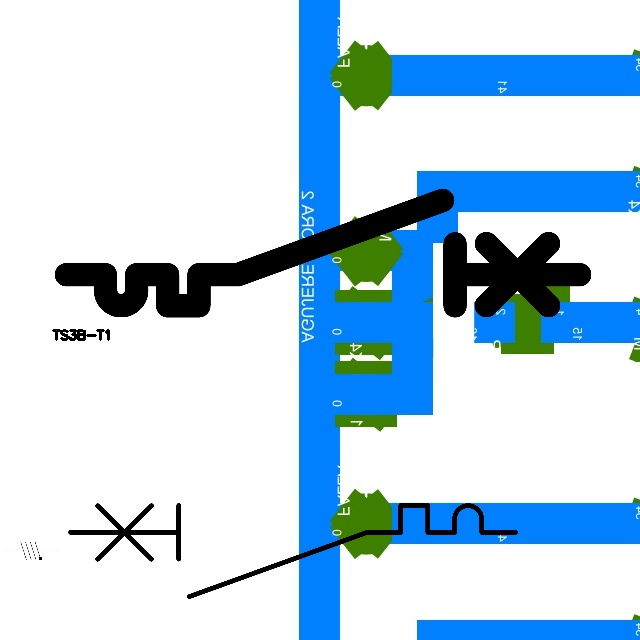interruptor_termomagnetico: (53, 187, 592, 319), (58, 494, 526, 608)
